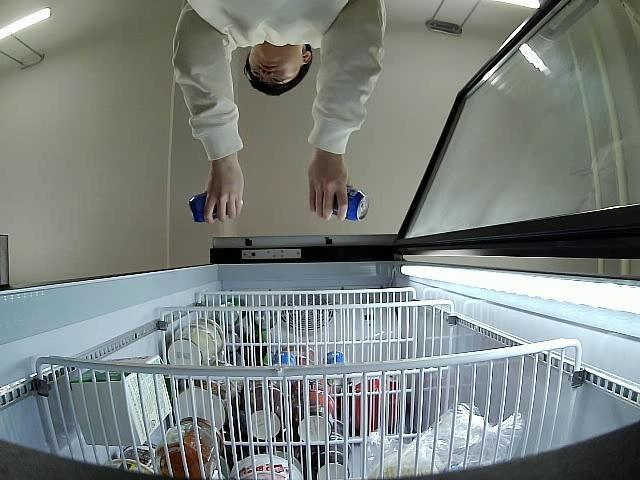13_pocariSweat: (333, 182, 368, 224), (189, 188, 230, 223)
